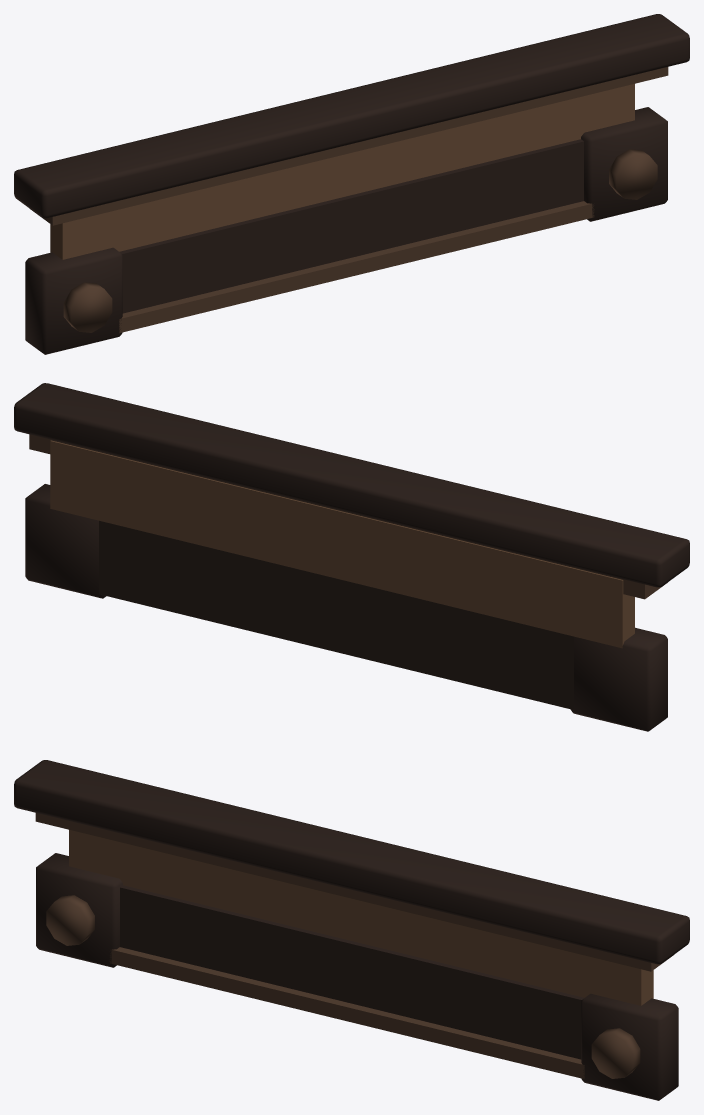
The model's file is kit_manor_doorway_head.glb.
3 renders of one model, top to bottom at view 1: azimuth 30°, elevation 25°; view 2: azimuth 150°, elevation 25°; view 3: azimuth 330°, elevation 25°, orthographic.
Visible parts, largest first — view 1: kit_manor_doorway_head; view 2: kit_manor_doorway_head; view 3: kit_manor_doorway_head.
Boxes of the visible parts, <box> form: kit_manor_doorway_head: <box>14,14,689,354</box>; kit_manor_doorway_head: <box>14,383,689,731</box>; kit_manor_doorway_head: <box>14,760,689,1100</box>.
Size of the model in its own units: 1.2 by 0.31 by 0.1.
